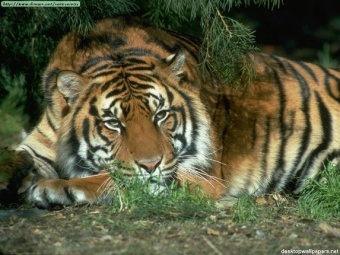Tigrew: (19, 23, 251, 213)
